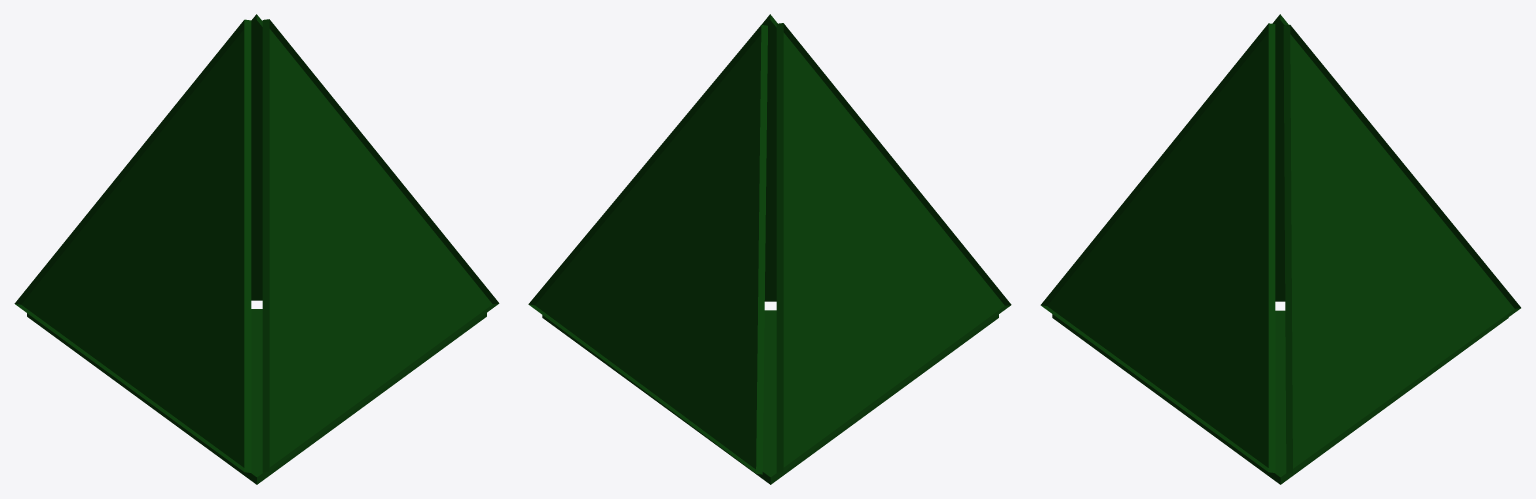
File: tetraBase.obj
The picture shows the model from 3 angles, left to right: view 1: azimuth 30°, elevation 25°; view 2: azimuth 150°, elevation 25°; view 3: azimuth 270°, elevation 25°; orthographic projection.
Visible parts, largest first — view 1: polySurface10 polySurface9, polySurface9 polySurface13, polySurface9 polySurface11, pPyramid4; view 2: pPyramid4, polySurface10 polySurface9, polySurface9 polySurface11, polySurface9 polySurface13; view 3: pPyramid4, polySurface9 polySurface13, polySurface9 polySurface11, polySurface10 polySurface9.
Part boxes in pixels (x1,y1,x2,y2): polySurface10 polySurface9: (14, 19, 251, 472); polySurface9 polySurface13: (262, 19, 499, 472); polySurface9 polySurface11: (27, 309, 486, 484); pPyramid4: (251, 14, 262, 300); pPyramid4: (528, 25, 767, 474); polySurface10 polySurface9: (776, 23, 1011, 472); polySurface9 polySurface11: (542, 310, 998, 484); polySurface9 polySurface13: (761, 14, 777, 301); pPyramid4: (1283, 24, 1520, 473); polySurface9 polySurface13: (1040, 23, 1275, 472); polySurface9 polySurface11: (1052, 310, 1508, 484); polySurface10 polySurface9: (1272, 14, 1288, 301).
Bounding box in the file's own units: 3.18 × 2.96 × 3.65.
